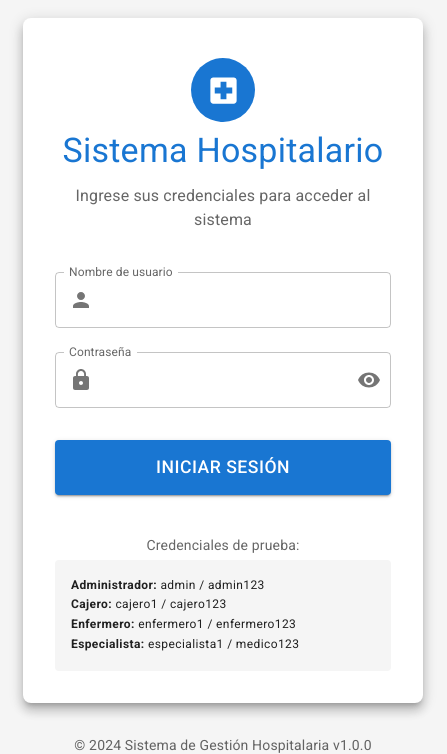
Test: Login Component › shows validation error for short password
Type "12345" into the password field labelled "Contraseña". click: (221, 380)
box: [101,352,341,408]
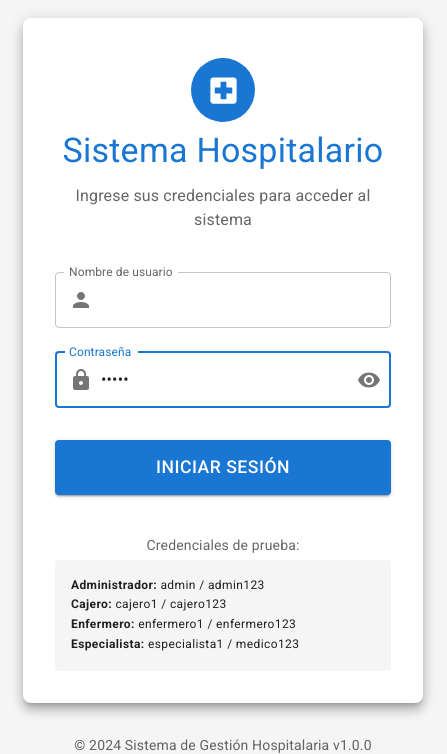
Click the button "Iniciar Sesión". click: (223, 467)
box: [55,440,391,495]
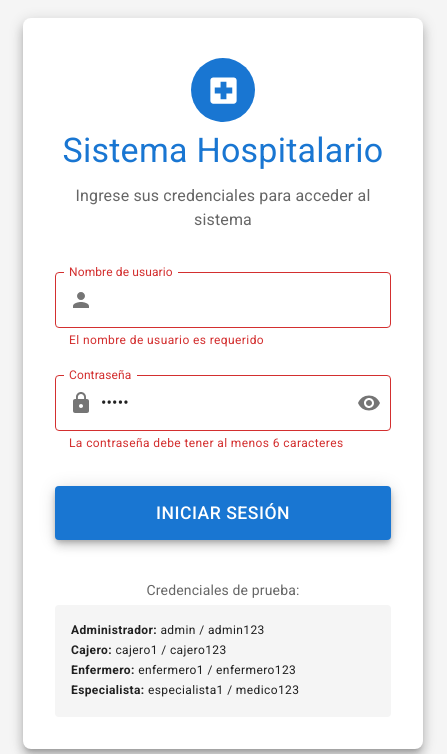
Result: the text "La contraseña debe tener al menos 6 caracteres" is shown at [69,434,377,454]
